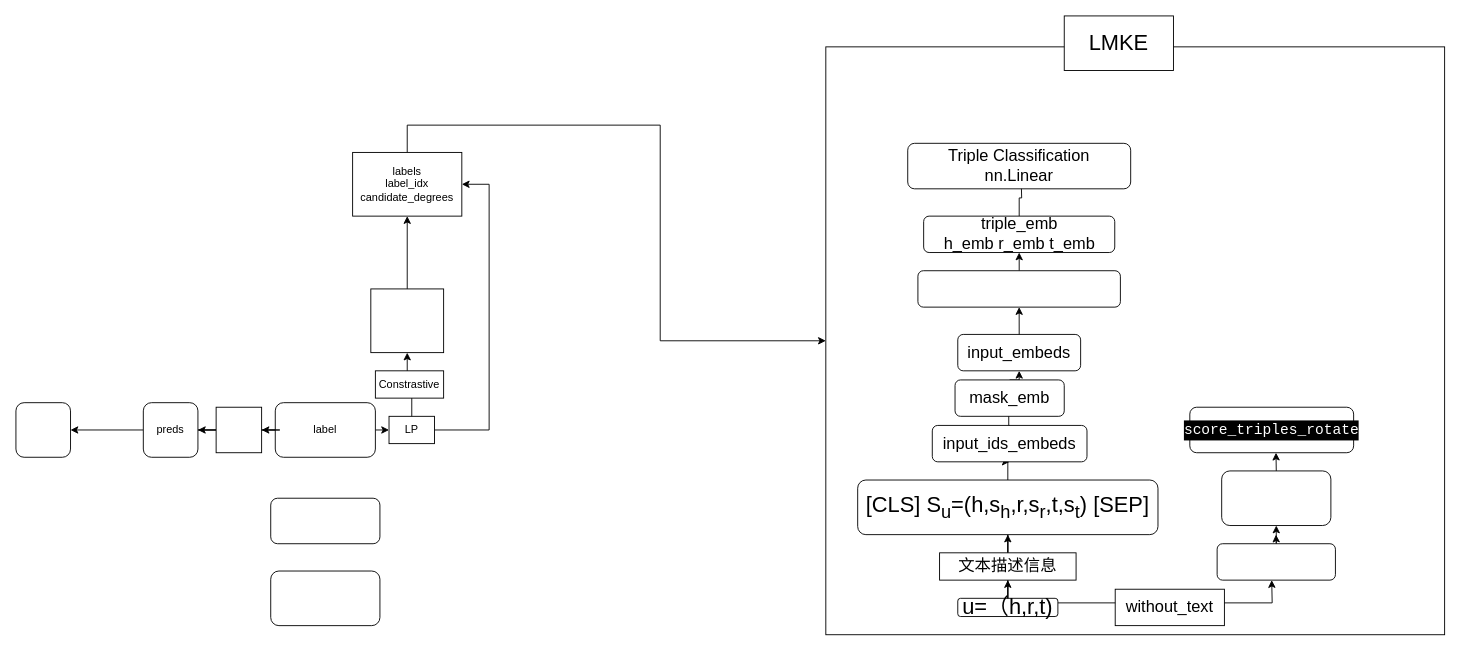
Some shapes in this 1461 by 651 pixel diagram are drawn without their labels. The shapes that lost their labels are listed below. From the top down, each one's centre as x and y in pixels, then its label:
At point 1018,288: "logits=lm_modek(**inputs)".
At point 407,320: "targets target_idxs".
At point 43,429: "loss".
At point 238,429: "ttriple 分类".
At point 1276,498: "score_triples _transe".
At point 325,520: "inputs,positions".
At point 1275,561: "h/r/t emb_list".
At point 325,598: "train_data".
